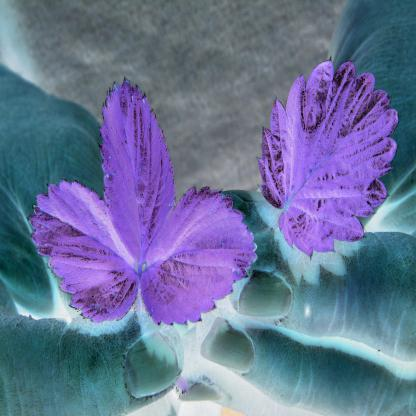strawberry leaf: (255, 58, 398, 265), (140, 178, 256, 340), (28, 179, 141, 327), (94, 77, 184, 261)
